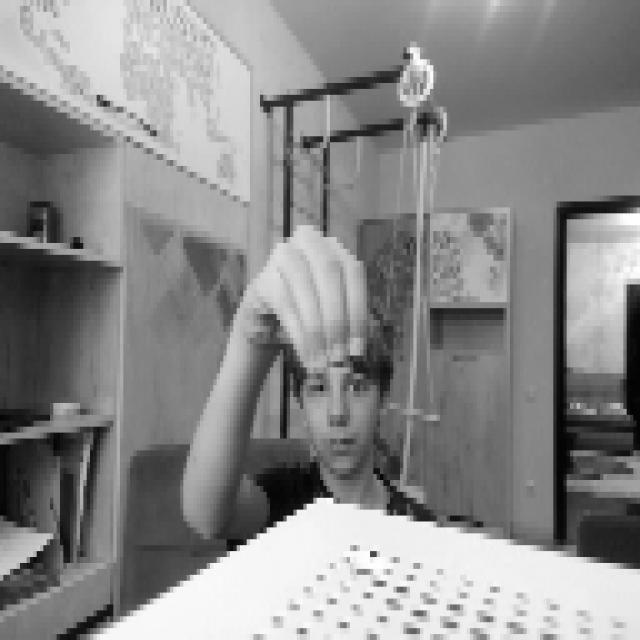left_click: (240, 214, 367, 374)
